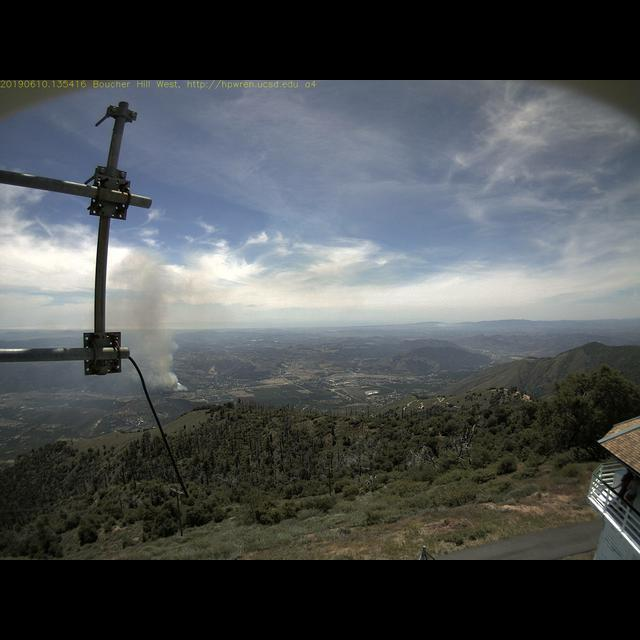Smoke: (114, 251, 186, 391)
